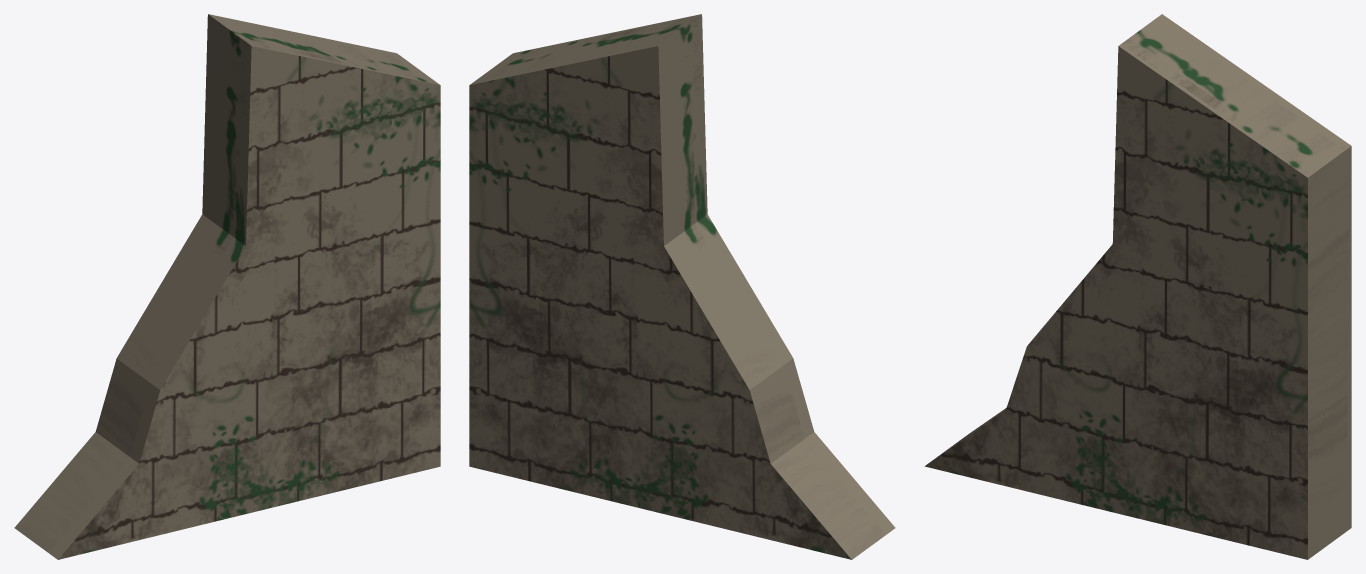
Rendered from mur IV_3.FBX.
The picture shows the model from 3 angles, left to right: view 1: azimuth 30°, elevation 25°; view 2: azimuth 150°, elevation 25°; view 3: azimuth 330°, elevation 25°; orthographic projection.
Visible parts, largest first — view 1: IV 4; view 2: IV 4; view 3: IV 4.
Part boxes in pixels (left/top/right/bottom): IV 4: left=14, top=14, right=440, bottom=559; IV 4: left=469, top=14, right=895, bottom=559; IV 4: left=924, top=14, right=1351, bottom=559.
Bounding box in the file's own units: 8.55 × 9.97 × 1.69.
